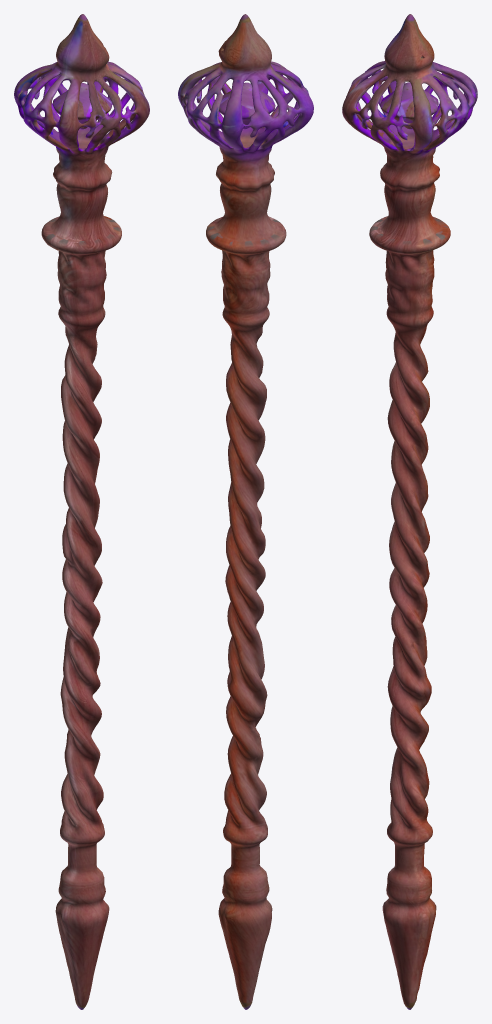
The model's file is A_magic_long_wooden_s_0613134145_.fbx.
The picture shows the model from 3 angles, left to right: view 1: azimuth 30°, elevation 25°; view 2: azimuth 210°, elevation 25°; view 3: azimuth 330°, elevation 25°; orthographic projection.
Parts seen in each view (by area): view 1: Mesh1_Mesh1.041; view 2: Mesh1_Mesh1.041; view 3: Mesh1_Mesh1.041.
Part boxes in pixels (x1,y1,x2,y2): Mesh1_Mesh1.041: (14, 14, 149, 1009); Mesh1_Mesh1.041: (178, 14, 313, 1009); Mesh1_Mesh1.041: (342, 14, 477, 1009).
Size of the model in its own units: 23.19 by 199 by 22.58.
Materials: 1 (1 with a texture image).
